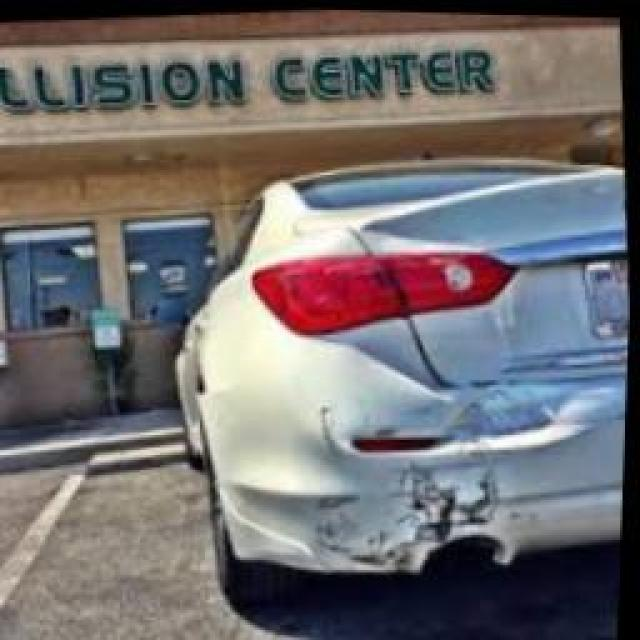Bumper: (270, 360, 629, 578)
Dickey: (362, 192, 635, 386)
